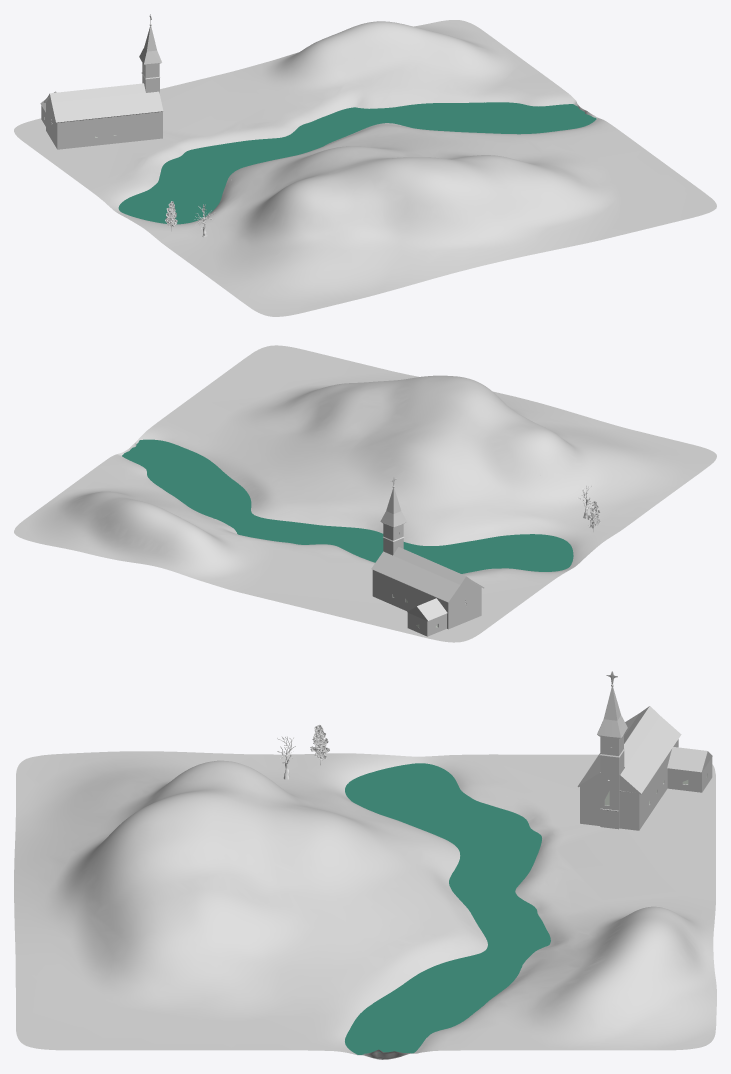
File: DarkTemple.glb
3 renders of one model, top to bottom at view 1: azimuth 30°, elevation 25°; view 2: azimuth 150°, elevation 25°; view 3: azimuth 270°, elevation 25°, orthographic. The views are drawn at different scales.
Visible parts, largest first — view 1: Circle, voda; view 2: Circle, voda; view 3: Circle, voda.
Boxes of the visible parts, bbox=[...] form: Circle: bbox=[14, 14, 716, 316]; voda: bbox=[118, 102, 596, 224]; Circle: bbox=[14, 345, 716, 642]; voda: bbox=[122, 439, 573, 573]; Circle: bbox=[14, 671, 716, 1059]; voda: bbox=[345, 763, 550, 1054].
Bounding box in the file's own units: 402 × 115 × 402.
